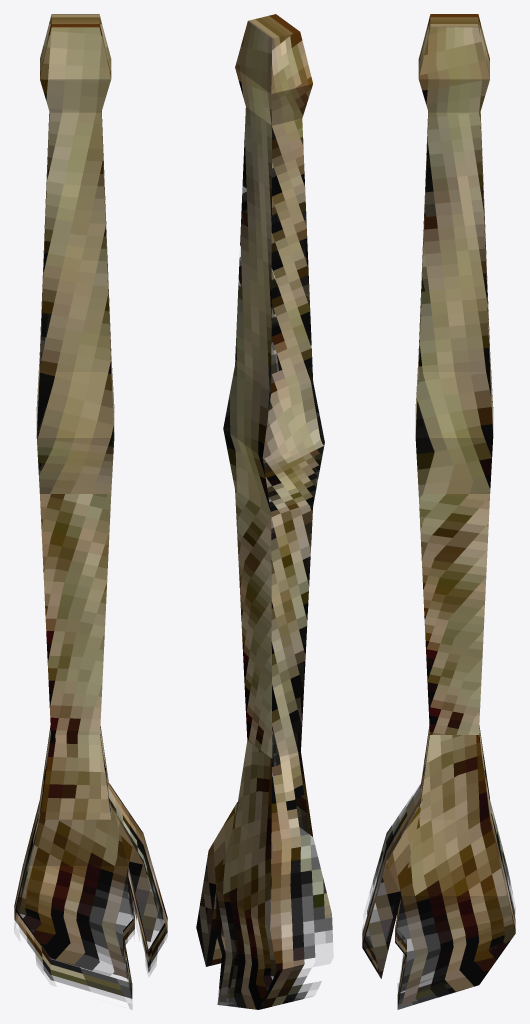
The model's file is Braço_Ossudo.glb.
3 renders of one model, left to right at view 1: azimuth 90°, elevation 25°; view 2: azimuth 210°, elevation 25°; view 3: azimuth 270°, elevation 25°, orthographic.
Parts seen in each view (by area): view 1: Skeleton; view 2: Skeleton; view 3: Skeleton.
Part boxes in pixels (left/top/right/bottom): Skeleton: left=14, top=14, right=167, bottom=1009; Skeleton: left=196, top=14, right=332, bottom=1009; Skeleton: left=362, top=14, right=515, bottom=1009.
Size of the model in its own units: 0.4518 by 6.85 by 0.9756.
Materials: 1 (1 with a texture image).
